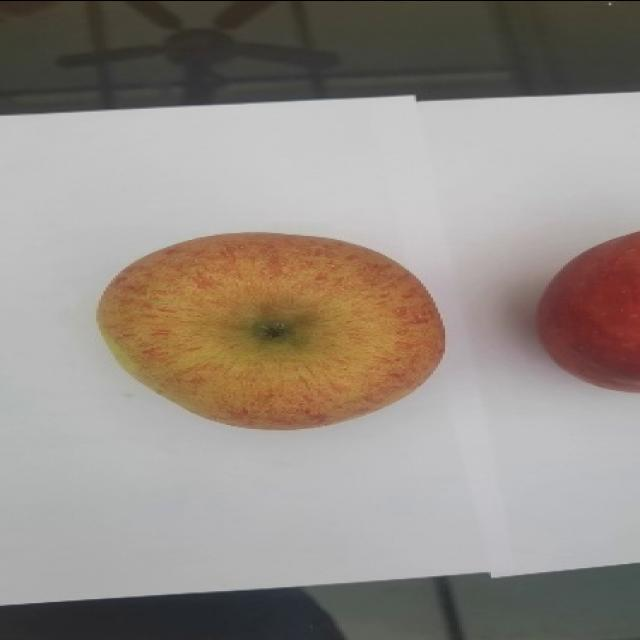Apple: (95, 230, 445, 430), (535, 229, 639, 393)
